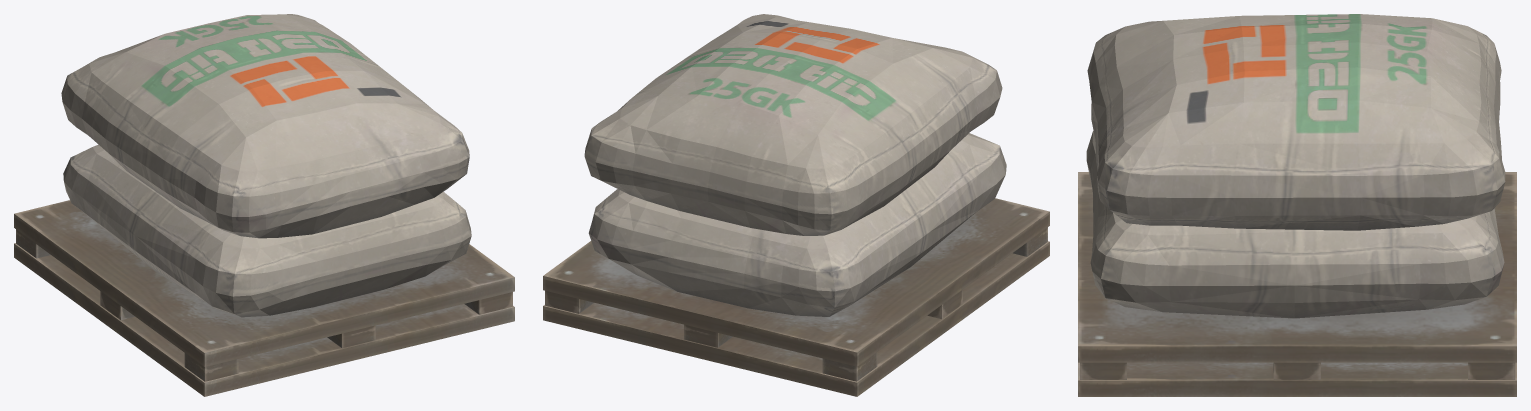
The model's file is P_Construction_001_S1_M01.obj.
3 renders of one model, left to right at view 1: azimuth 30°, elevation 25°; view 2: azimuth 150°, elevation 25°; view 3: azimuth 270°, elevation 25°, orthographic. The views are drawn at different scales.
Bounding box in the file's own units: 0.9395 × 0.6709 × 0.9983.
Materials: 1 (1 with a texture image).
